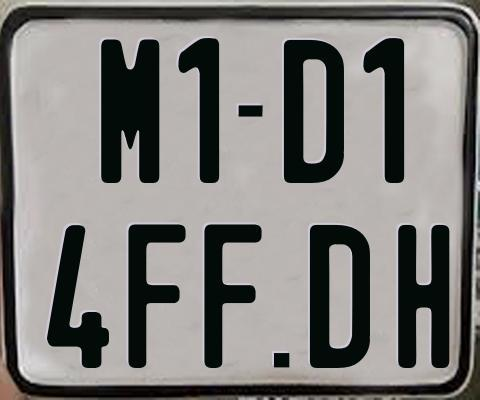1: (177, 36, 219, 185), (361, 36, 402, 182)
4: (47, 225, 114, 370)
D: (310, 222, 375, 367), (282, 37, 344, 186)
F: (203, 222, 267, 371), (127, 221, 187, 365)
H: (395, 223, 447, 370)
M: (101, 38, 161, 186)
